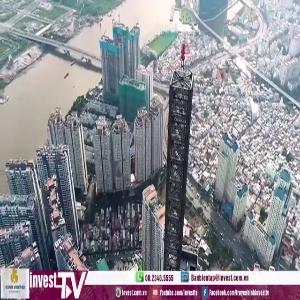drone: (103, 152, 143, 192)
